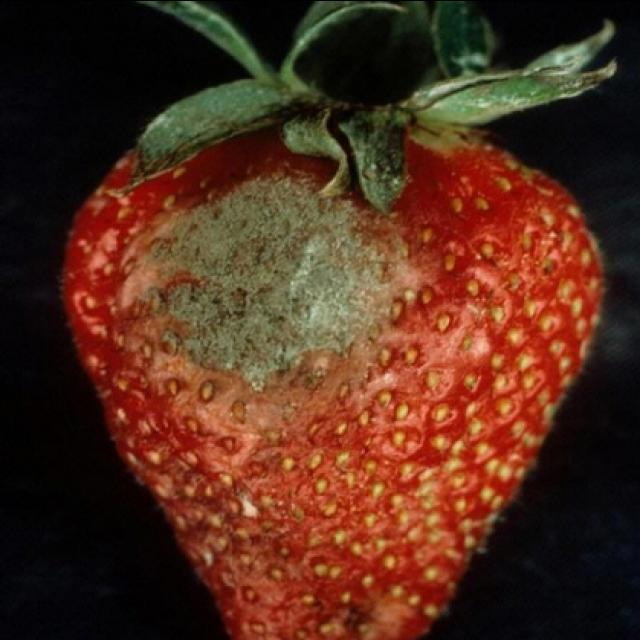Gray Mold: (115, 161, 452, 491)
